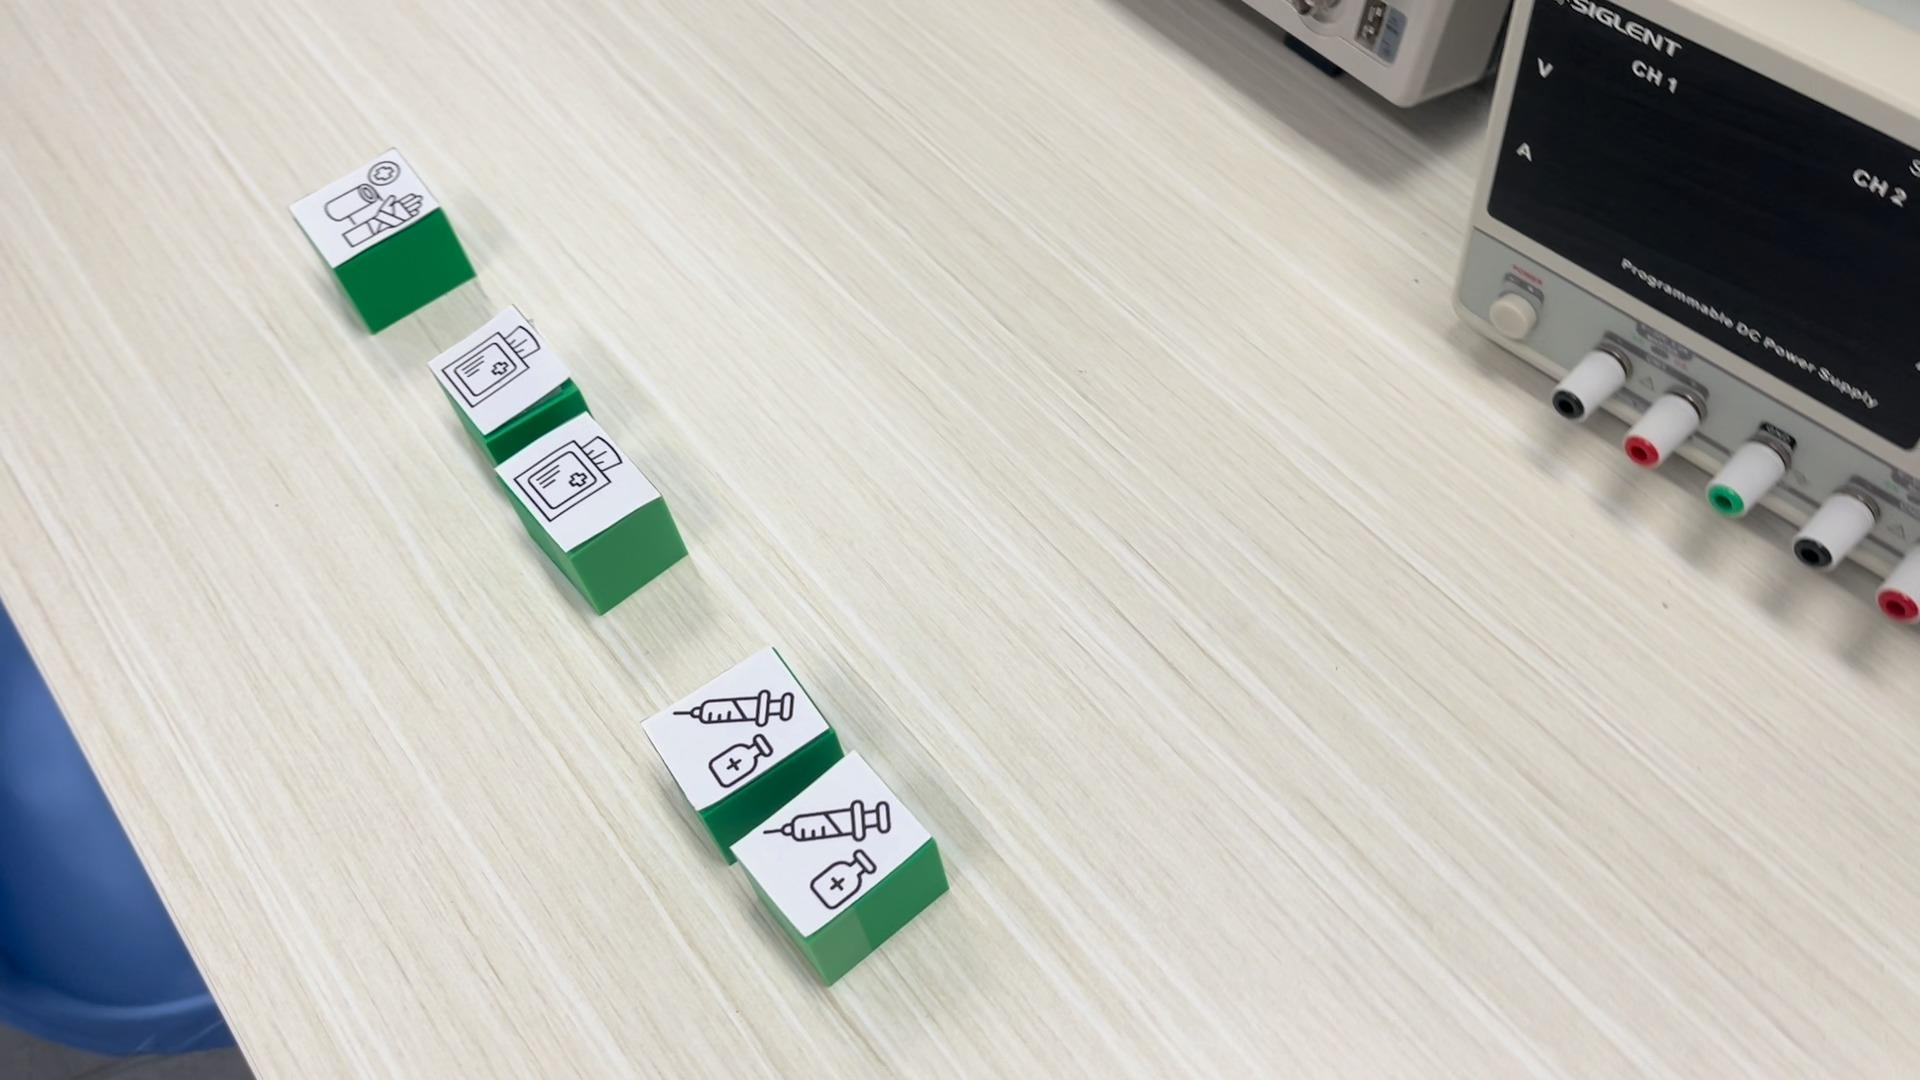Bandages: (284, 146, 475, 334)
Gauze: (493, 409, 691, 618), (427, 302, 582, 442)
antiseptic cream: (728, 749, 949, 985), (642, 644, 845, 812)
